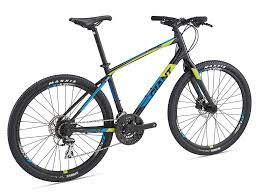bicycle: (5, 11, 256, 186)
